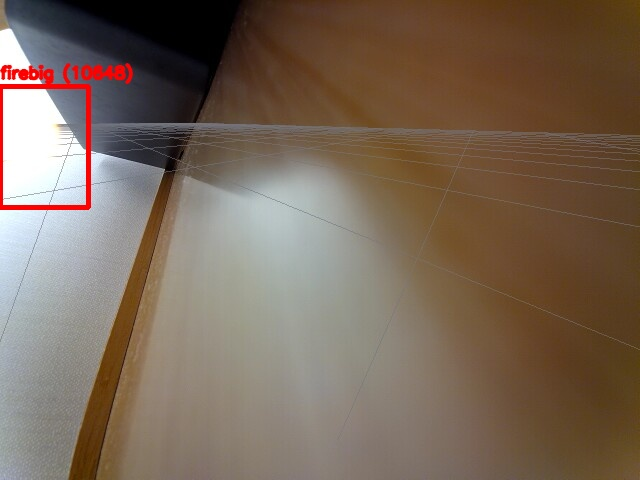firebig: (0, 86, 88, 207)
